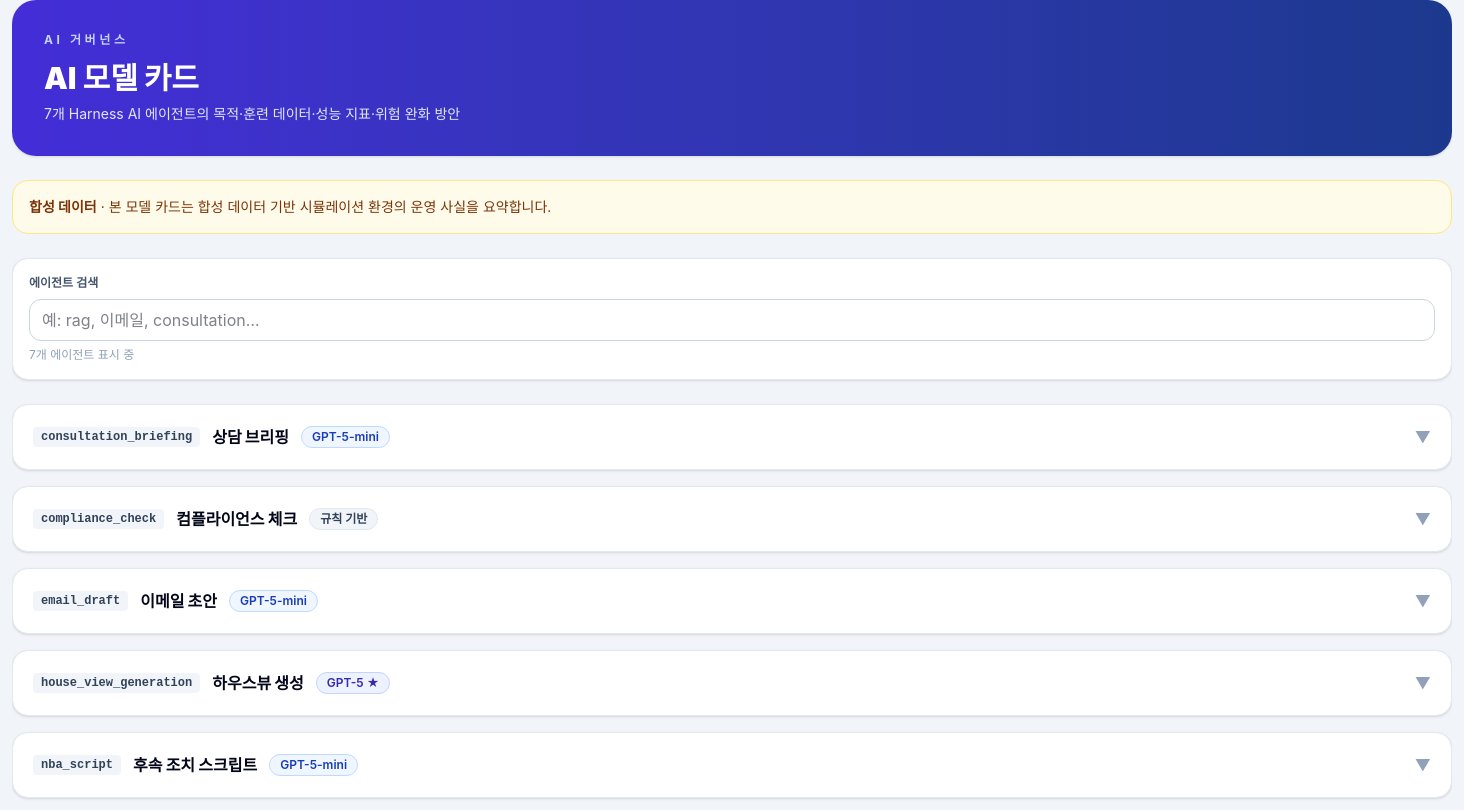
Test: AIModelCardsPage a11y › search filter reduces visible cards
Type "rag" into the search field at (732, 320), box x1=29 y1=299 x2=1435 y2=341
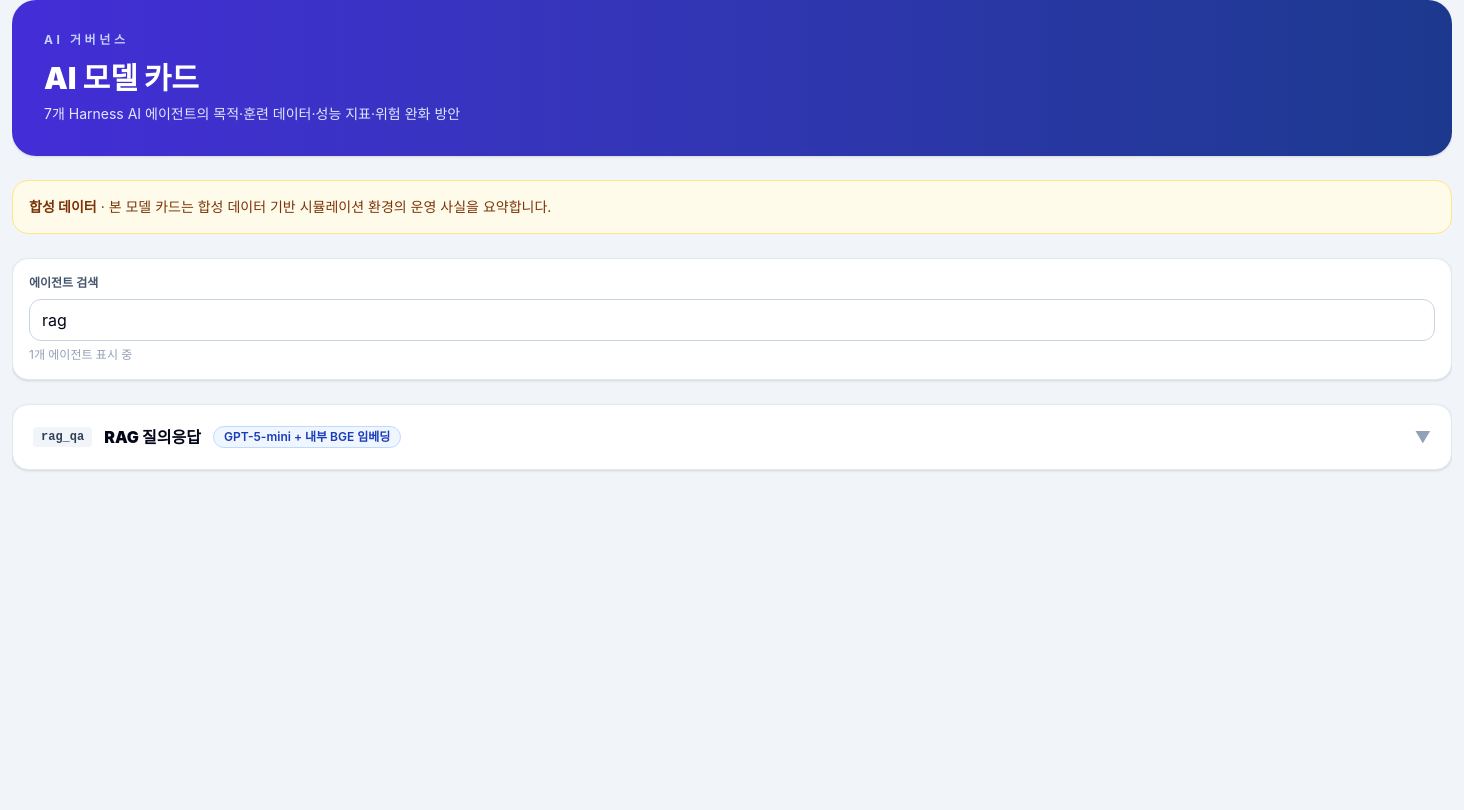
Expected: the number of list items is 1, x1=12 y1=404 x2=1452 y2=470
